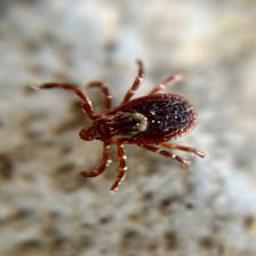Dermacentor variabilis: (29, 58, 206, 193)
